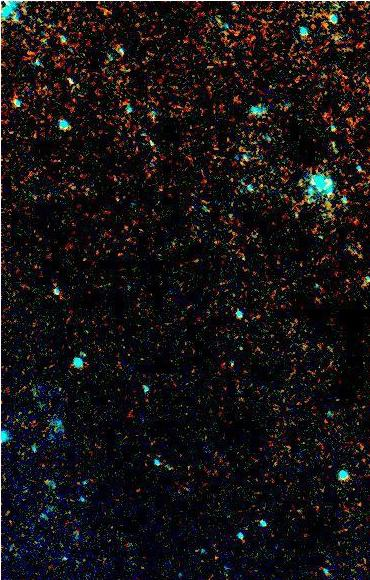star: (348, 233, 370, 263)
